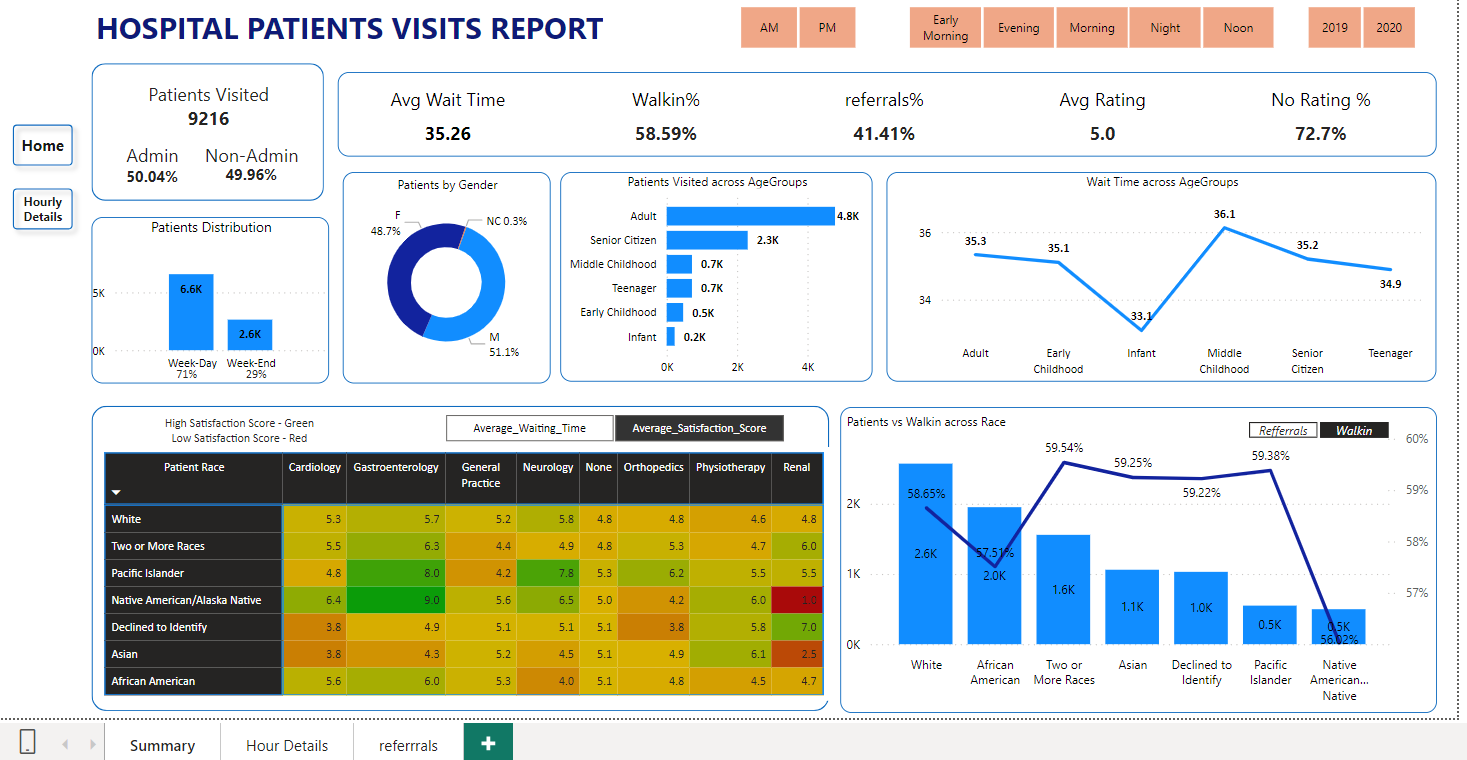

This screenshot's page, from the dashboard's own definition file:
{"tool":"powerbi","page":{"name":"Summary","canvas":[1300,655],"ordinal":0},"visuals":[{"type":"card","title":"Patients Visited","fields":{"Values":["Measures_Table.Total_Patients"]},"box":[117.6,80,146.2,76],"z":0,"group":"g1"},{"type":"shape","box":[87.1,377.1,655.7,271.4],"z":0},{"type":"cardVisual","fields":{"Data":["Measures_Table.Average_Waiting_Time","Measures_Table.Walkin%","Measures_Table.referrals%","Measures_Table.Average_Satisfaction_Score","Measures_Table.No Rating %"]},"box":[305.6,80,976.7,75.6],"z":1000},{"type":"card","title":"Admin","fields":{"Values":["Measures_Table.inhome patients"]},"box":[103.3,142,75,44.2],"z":1000,"group":"g1"},{"type":"card","title":"Non-Admin","fields":{"Values":["Measures_Table.general_patients"]},"box":[181,142,95.6,40],"z":2000,"group":"g1"},{"type":"donutChart","title":"Patients by Gender","fields":{"Category":["Dim_Gender.Gender"],"Y":["Measures_Table.Total_Patients"]},"box":[310,168.9,184.4,187.8],"z":2000},{"type":"clusteredColumnChart","title":"Patients Distribution","fields":{"Y":["Measures_Table.Total_Patients"],"Category":["Dim_Date_Table.Week-Day/Week-End"]},"box":[86.7,208.9,211.1,147.8],"z":3000},{"type":"group","id":"g1","title":"Group 1","box":[103.3,80,173.3,106.7],"z":4000},{"type":"shape","box":[86.7,72.2,206.7,122.2],"z":5000},{"type":"clusteredBarChart","title":"Patients Visited across AgeGroups","fields":{"Category":["Dim_Patients.Patient_AgeGroup"],"Y":["Measures_Table.Total_Patients"]},"box":[503.3,168.9,277.8,186.7],"z":6000},{"type":"pivotTable","fields":{"Values":["Measures_Table.Average_Satisfaction_Score"],"Rows":["Dim_Patient_Race.Patient Race"],"Columns":["Dim_Department.Department Name"]},"box":[92.9,414.2,650,225.7],"z":7000,"group":"g2"},{"type":"shape","box":[82.2,12.2,467.8,54.4],"z":8000},{"type":"slicer","fields":{"Values":["Choose Parameter.Choose Parameter"]},"box":[375.3,378,350,35.6],"z":8000,"group":"g2"},{"type":"slicer","fields":{"Values":["Fact_Patients_Waiting_data.Time_Part"]},"box":[793.3,20,363.3,40],"z":9000},{"type":"slicer","fields":{"Values":["Fact_Patients_Waiting_data.Time AM/PM"]},"box":[643.3,20,141.1,40],"z":10000},{"type":"card","fields":{"Values":["Measures_Table.Heat_Map_Caption"]},"box":[132.4,377.1,170,45.6],"z":11000,"group":"g2"},{"type":"lineClusteredColumnComboChart","title":"Patients vs Walkin across Race","fields":{"Category":["Dim_Patient_Race.Patient Race"],"Y":["Measures_Table.Total_Patients"],"Y2":["Measures_Table.Walkin%"]},"box":[752.2,377.8,530,272.2],"z":12000},{"type":"bookmarkNavigator","box":[1115.6,391.1,125.6,14.4],"z":13000},{"type":"lineChart","title":"Wait Time across AgeGroups","fields":{"Category":["Dim_Patients.Patient_AgeGroup"],"Y":["Measures_Table.Average_Waiting_Time"]},"box":[793.3,168.9,488.9,186.7],"z":14000},{"type":"card","fields":{"Values":["Measures_Table.Weekday_Weekend_Insight"]},"box":[132.2,338.9,137.8,17.8],"z":15000},{"type":"slicer","fields":{"Values":["Dim_Date_Table.Year"]},"box":[1147.8,20,134.4,40],"z":16000},{"type":"shape","box":[7.8,117.8,71.1,54.4],"z":17000},{"type":"shape","box":[7.8,174.4,71.1,54.4],"z":18000},{"type":"group","id":"g2","title":"Group 2","box":[92.9,377.1,650,262.9],"z":18001}]}

Visuals, with their boxes on the page's 1300x655 design canvas (x1, y1, x2, y2). These are canvas units, not pixel positions in the 1467x760 screenshot, which may show the page scaled, cropped or inside an application window:
"Patients Visited" card: rect(118, 80, 264, 156)
shape: rect(87, 377, 743, 648)
cardVisual - Measures_Table.Average_Waiting_Time x Measures_Table.Walkin%: rect(306, 80, 1282, 156)
"Admin" card: rect(103, 142, 178, 186)
"Non-Admin" card: rect(181, 142, 277, 182)
"Patients by Gender" donutChart: rect(310, 169, 494, 357)
"Patients Distribution" clusteredColumnChart: rect(87, 209, 298, 357)
"Group 1" group: rect(103, 80, 277, 187)
shape: rect(87, 72, 293, 194)
"Patients Visited across AgeGroups" clusteredBarChart: rect(503, 169, 781, 356)
pivotTable - Measures_Table.Average_Satisfaction_Score x Dim_Patient_Race.Patient Race: rect(93, 414, 743, 640)
shape: rect(82, 12, 550, 67)
slicer - Choose Parameter.Choose Parameter: rect(375, 378, 725, 414)
slicer - Fact_Patients_Waiting_data.Time_Part: rect(793, 20, 1157, 60)
slicer - Fact_Patients_Waiting_data.Time AM/PM: rect(643, 20, 784, 60)
card - Measures_Table.Heat_Map_Caption: rect(132, 377, 302, 423)
"Patients vs Walkin across Race" lineClusteredColumnComboChart: rect(752, 378, 1282, 650)
bookmarkNavigator: rect(1116, 391, 1241, 406)
"Wait Time across AgeGroups" lineChart: rect(793, 169, 1282, 356)
card - Measures_Table.Weekday_Weekend_Insight: rect(132, 339, 270, 357)
slicer - Dim_Date_Table.Year: rect(1148, 20, 1282, 60)
shape: rect(8, 118, 79, 172)
shape: rect(8, 174, 79, 229)
"Group 2" group: rect(93, 377, 743, 640)
